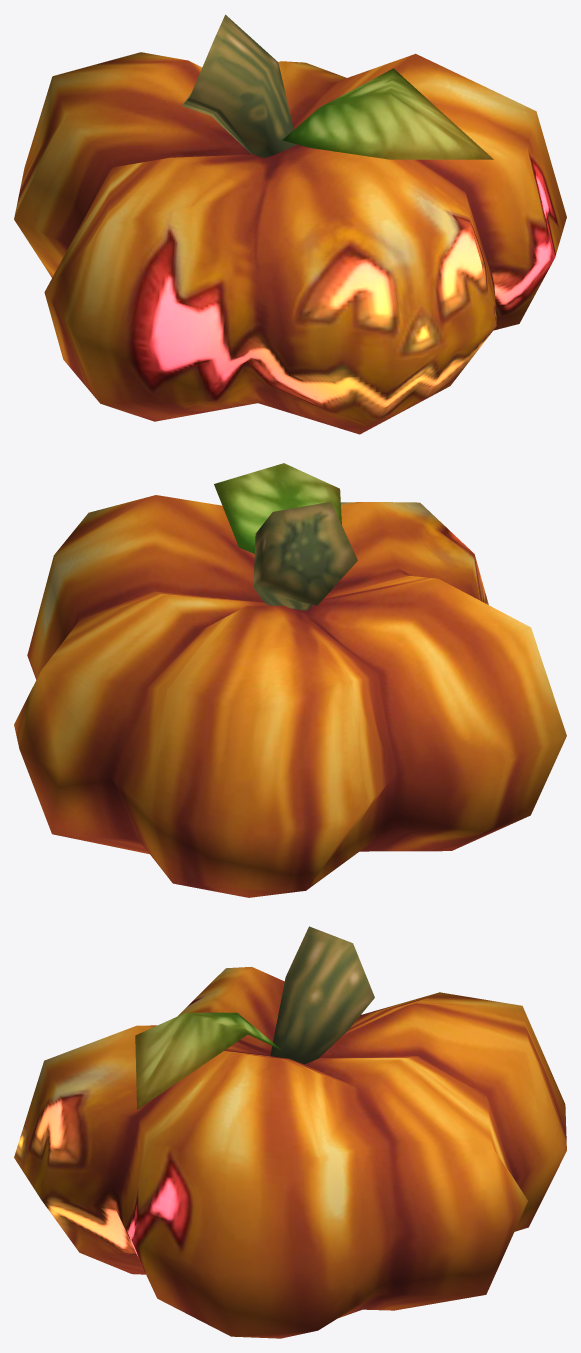
The model's file is pumpkin.glb.
The picture shows the model from 3 angles, top to bottom: view 1: azimuth 30°, elevation 25°; view 2: azimuth 150°, elevation 25°; view 3: azimuth 270°, elevation 25°; orthographic projection. The views are drawn at different scales.
Visible parts, largest first — view 1: Object_3; view 2: Object_3; view 3: Object_3.
Boxes of the visible parts, x1,y1,x2,y2 form: Object_3: (14,14,566,434); Object_3: (14,463,566,897); Object_3: (14,926,566,1338).
Size of the model in its own units: 3.78 by 2.54 by 3.91.
1 material, 1 textured.
